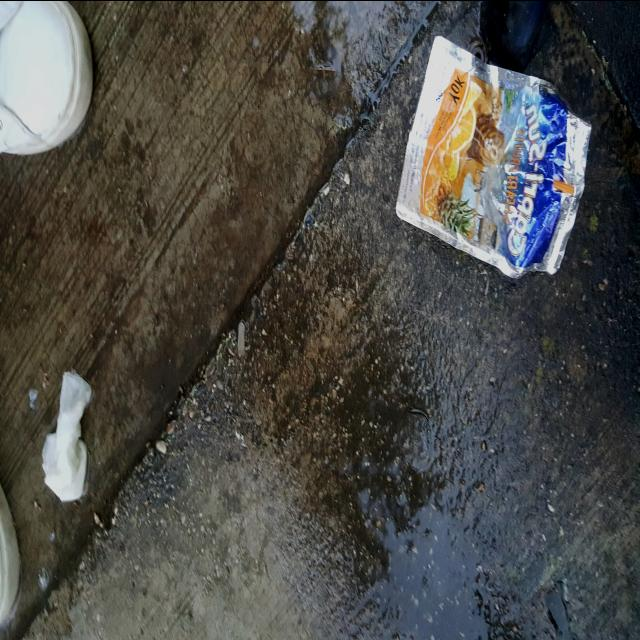Other plastic: (396, 35, 592, 278)
Plastic straw: (553, 179, 574, 194)
Tissues: (41, 366, 92, 501)
